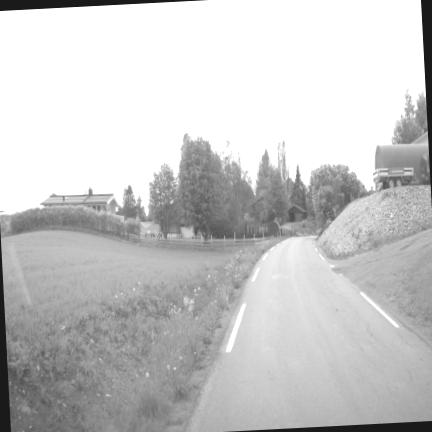Road: (187, 238, 431, 431)
